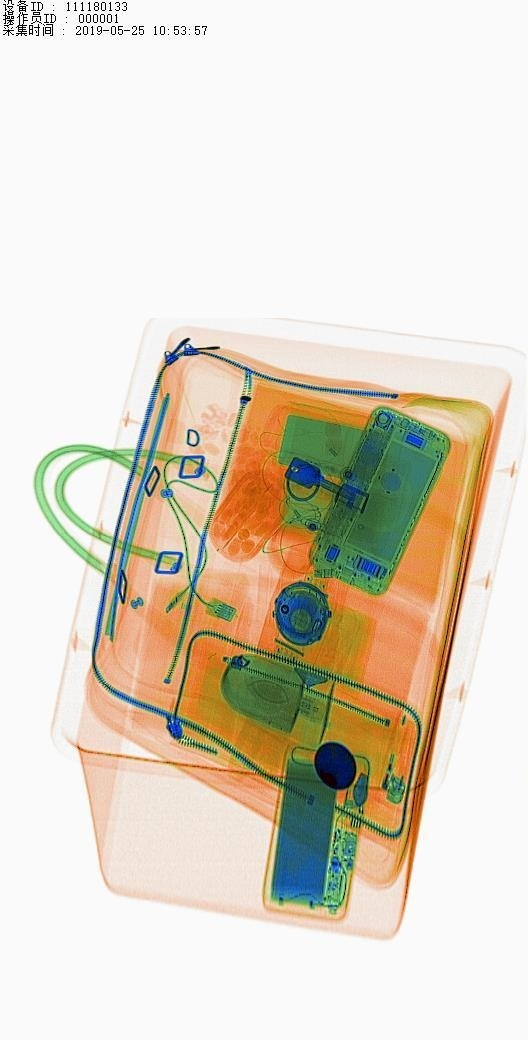NonmetallicFire: (374, 701, 427, 819)
